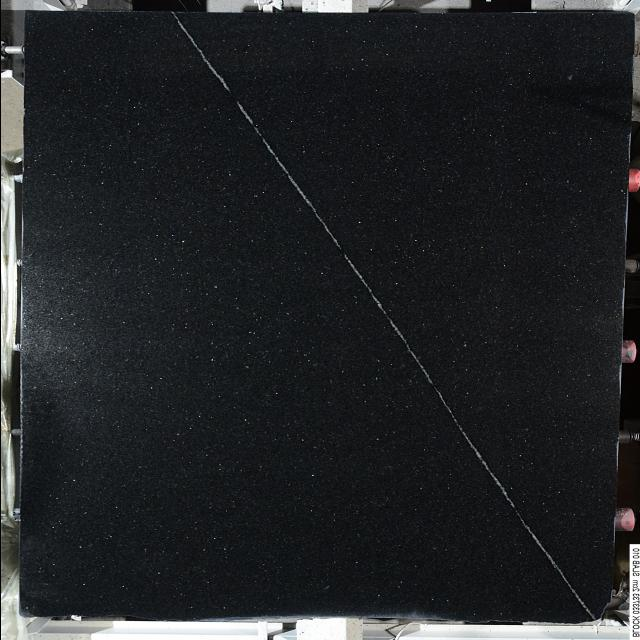chapa: (19, 11, 633, 622)
